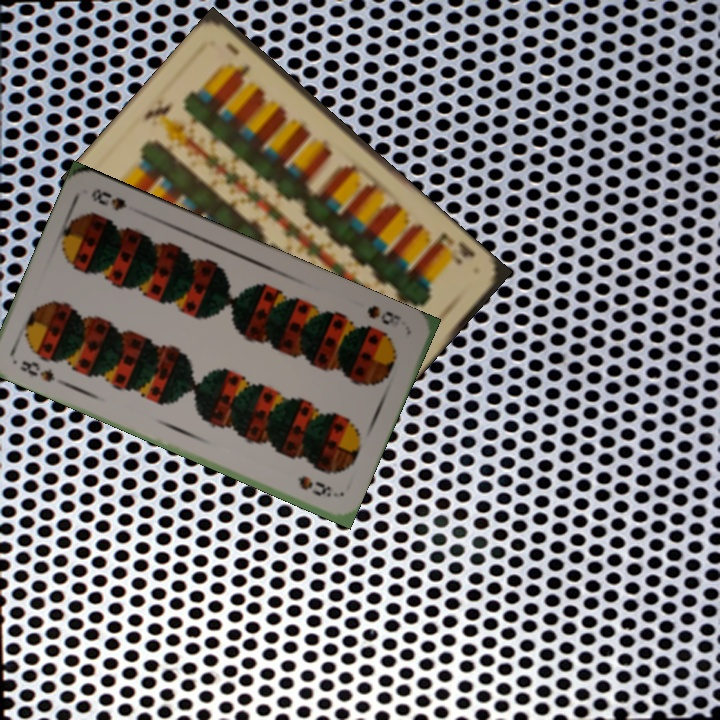E10: (428, 228, 478, 268)
S8: (16, 356, 58, 385), (363, 301, 404, 329)
